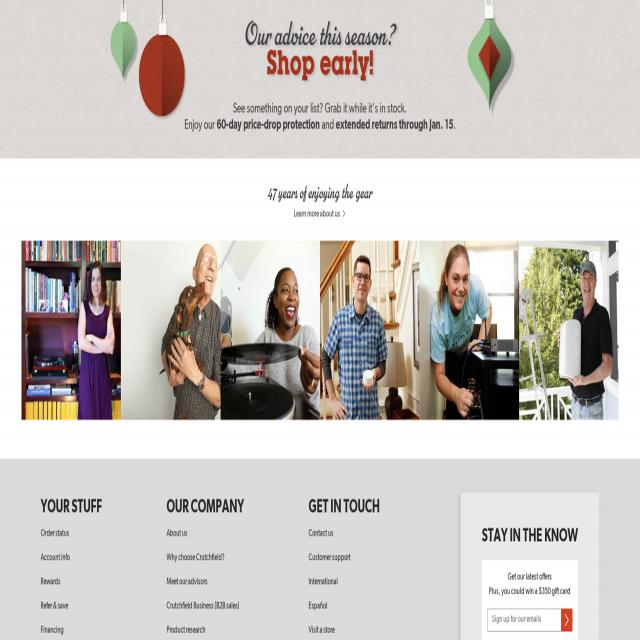button: (518, 238, 618, 420), (21, 240, 121, 420), (121, 240, 221, 420), (220, 240, 320, 420), (320, 240, 420, 420), (419, 240, 519, 420), (139, 0, 187, 121), (467, 0, 515, 118), (110, 0, 138, 84), (560, 609, 572, 632)
field: (487, 610, 561, 630)
